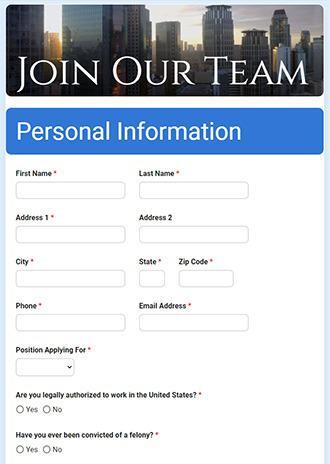dropdown: (17, 358, 75, 379)
input: (17, 226, 127, 245), (17, 271, 126, 290), (140, 314, 248, 333), (140, 182, 249, 200), (141, 226, 250, 244), (17, 315, 124, 332), (19, 183, 125, 200), (179, 271, 234, 288), (140, 271, 166, 287)
label: (16, 392, 204, 403), (15, 432, 160, 443), (15, 345, 93, 356), (137, 300, 194, 312), (138, 168, 183, 179), (177, 257, 215, 267), (16, 213, 58, 222), (16, 170, 60, 178), (137, 213, 176, 222), (137, 257, 166, 267), (15, 302, 45, 311), (14, 257, 38, 267), (53, 444, 71, 455), (26, 446, 41, 456), (53, 406, 66, 417), (26, 406, 39, 416)
radio: (16, 446, 26, 456), (44, 445, 53, 455), (43, 405, 51, 416), (17, 406, 25, 415)
